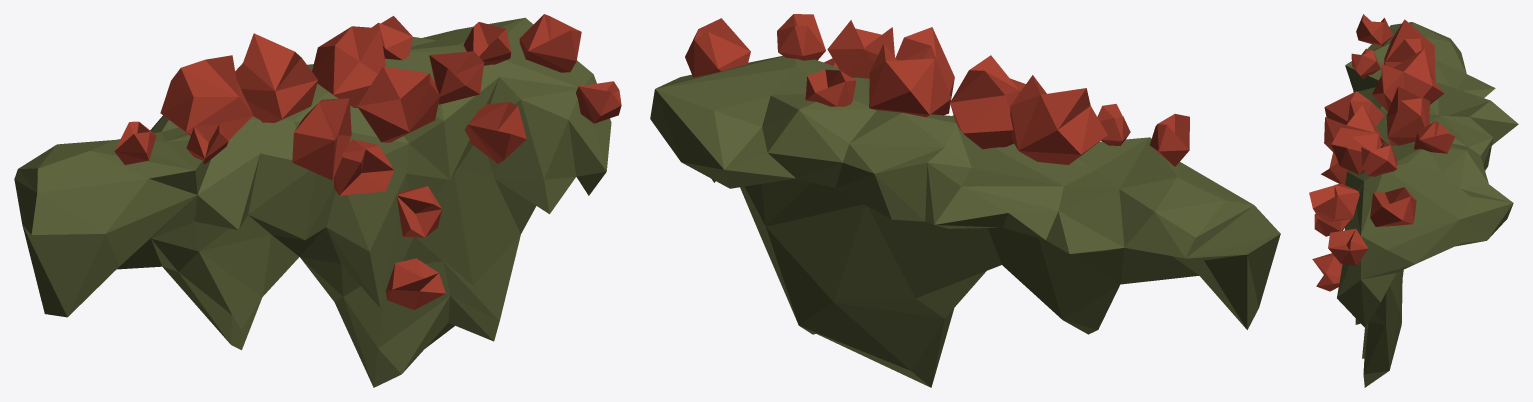
The model's file is SM_Prop_FlowerHanging_02.glb.
3 renders of one model, left to right at view 1: azimuth 30°, elevation 25°; view 2: azimuth 150°, elevation 25°; view 3: azimuth 270°, elevation 25°, orthographic. The views are drawn at different scales.
Visible parts, largest first — view 1: SM_Prop_FlowerHanging_02_part00; view 2: SM_Prop_FlowerHanging_02_part00; view 3: SM_Prop_FlowerHanging_02_part00.
Boxes of the visible parts, box(x1,y1,x2,y2) form: SM_Prop_FlowerHanging_02_part00: box(14, 14, 621, 387); SM_Prop_FlowerHanging_02_part00: box(650, 14, 1280, 387); SM_Prop_FlowerHanging_02_part00: box(1309, 14, 1518, 387).
Bounding box in the file's own units: 1.25 × 0.7344 × 0.5038.
1 material, 1 textured.
